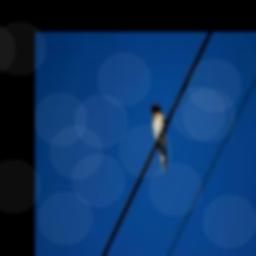Swallow: (151, 103, 169, 173)
